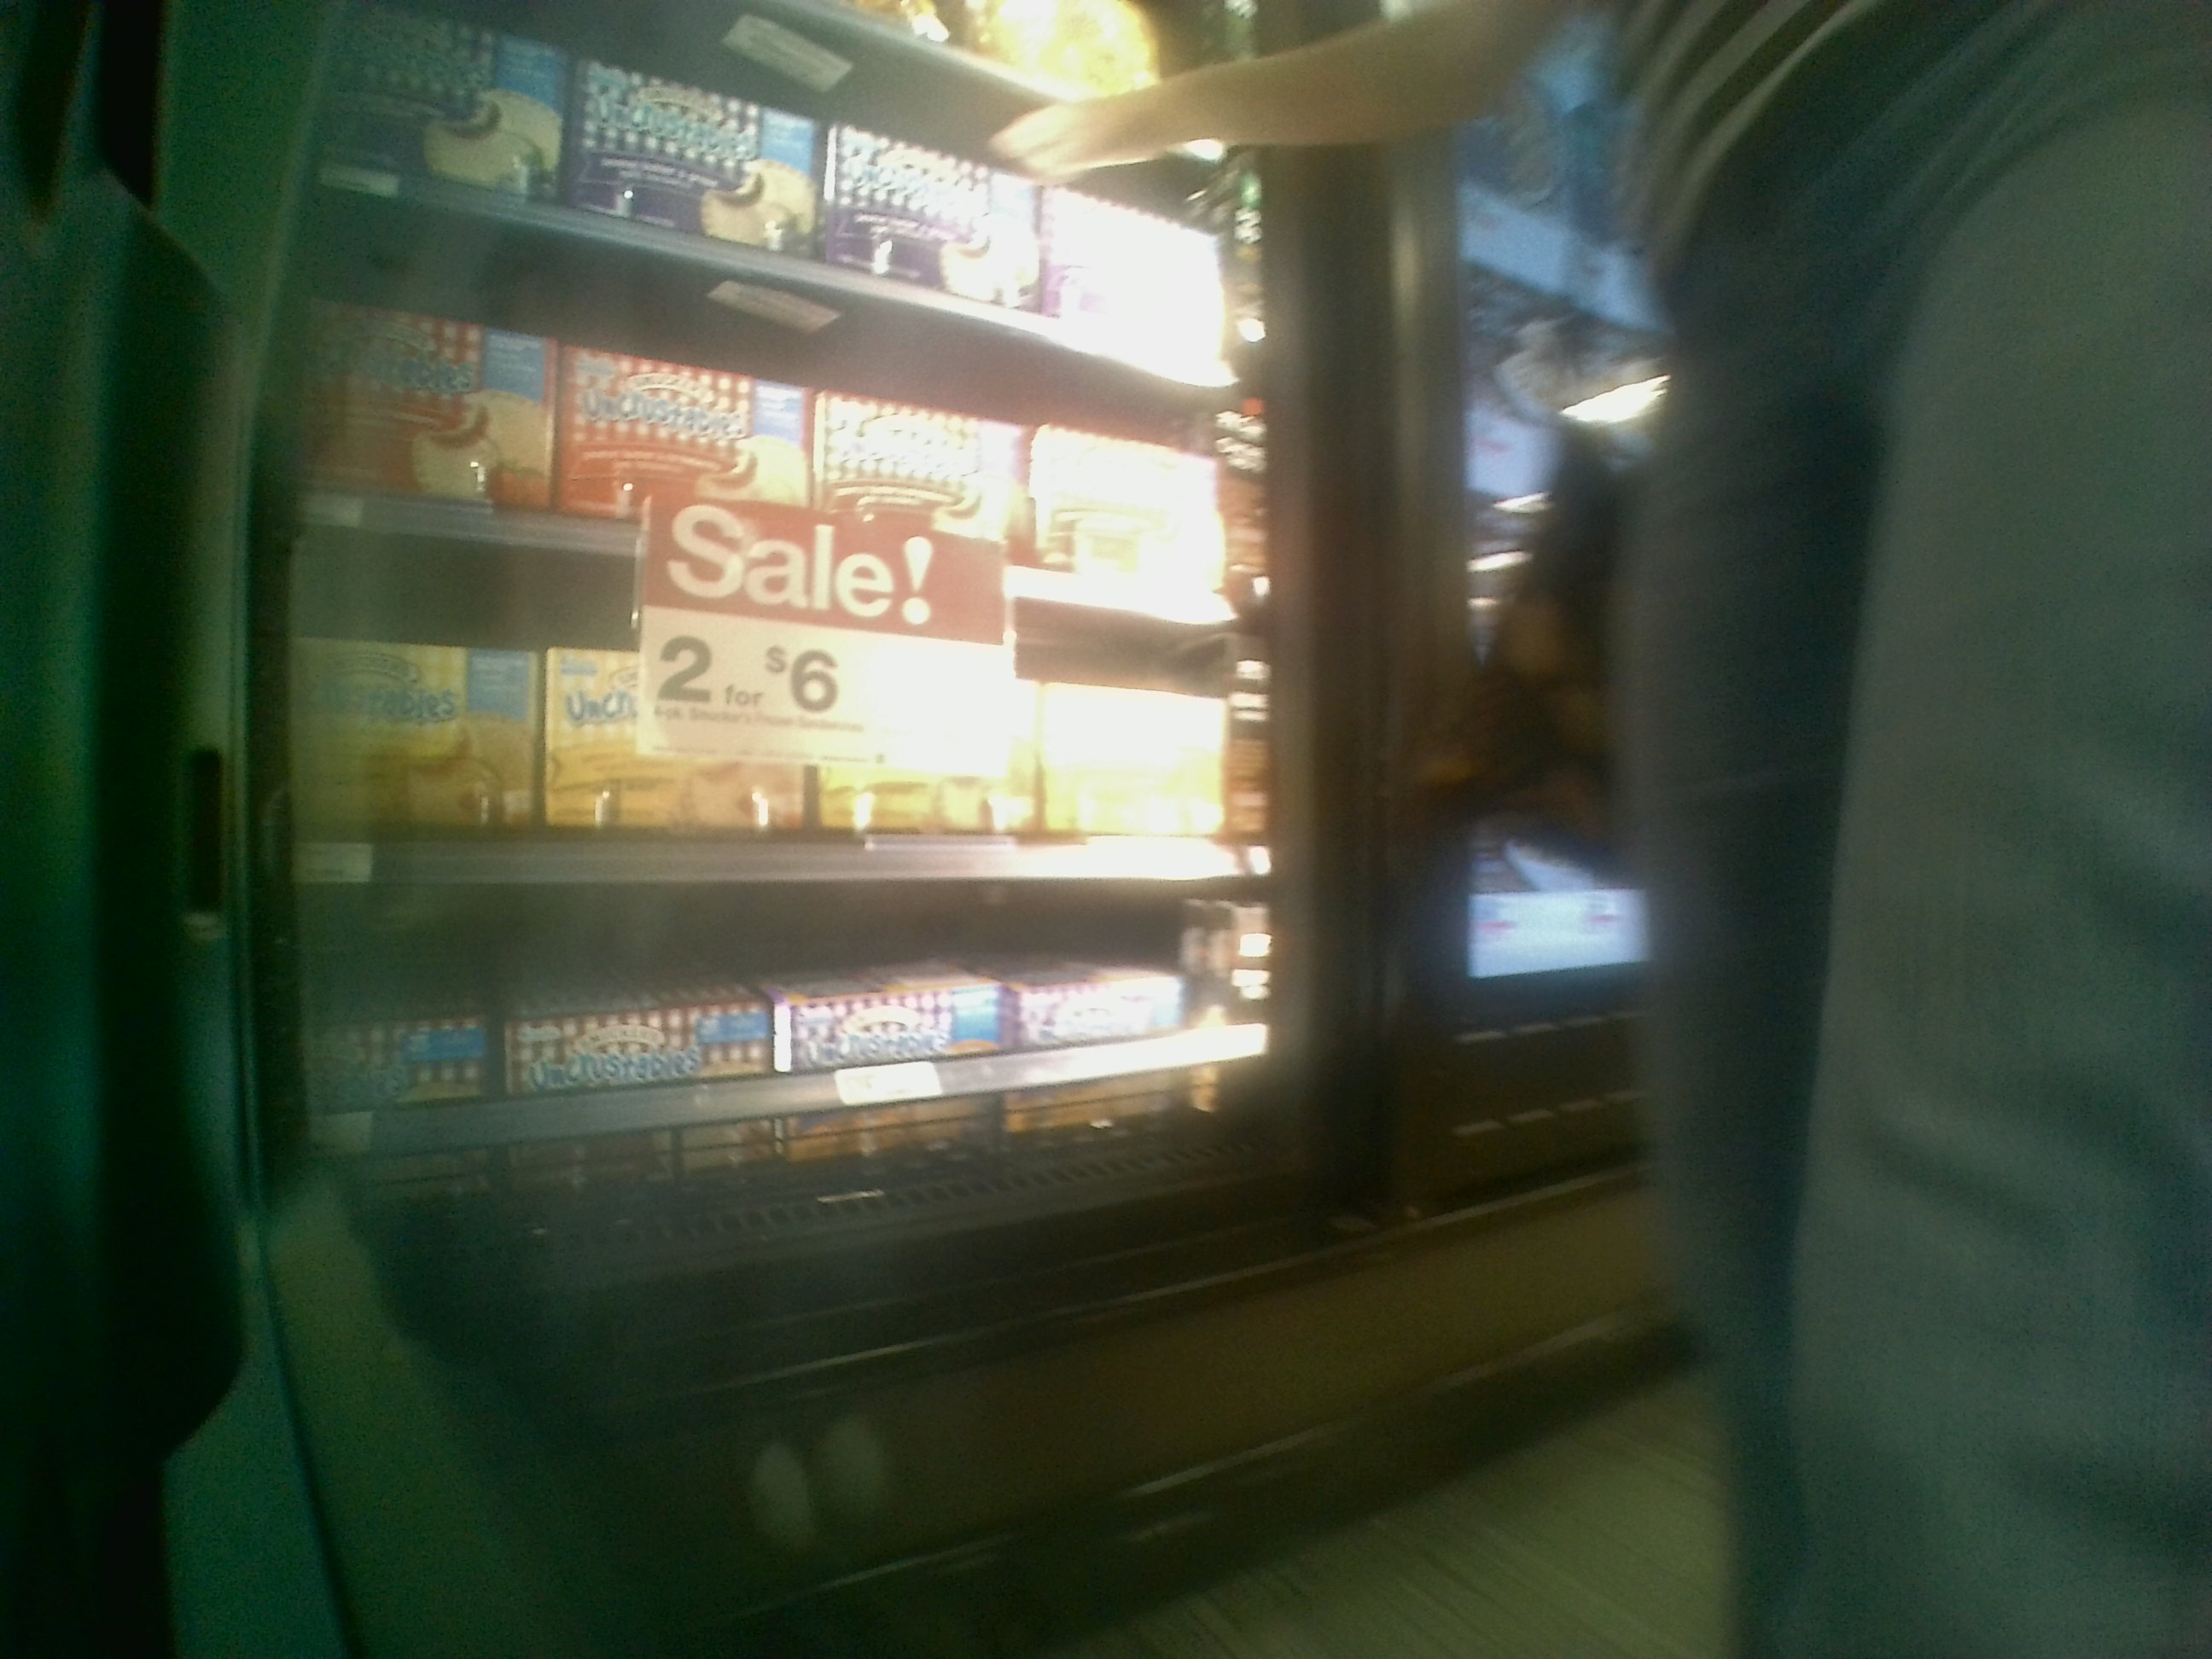shelf: (280, 880, 1298, 1236), (261, 559, 1252, 878), (296, 286, 1240, 591)
